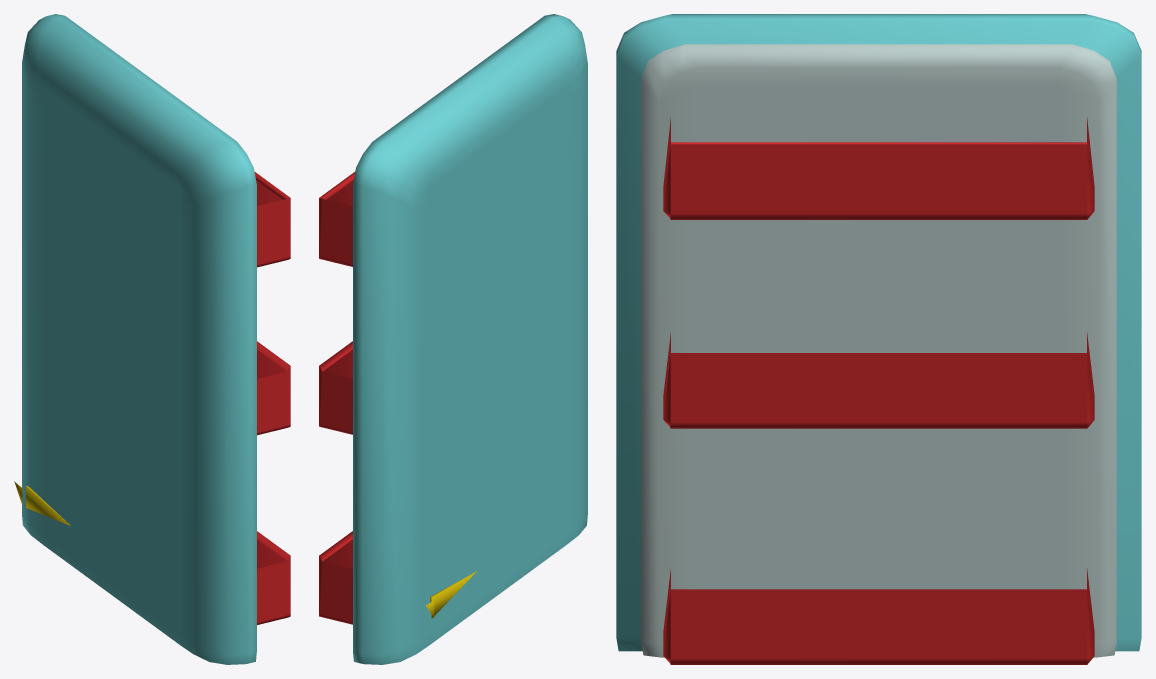
Rendered from MOD_APP_Fridge_door_01.fbx.
The picture shows the model from 3 angles, left to right: view 1: azimuth 30°, elevation 25°; view 2: azimuth 150°, elevation 25°; view 3: azimuth 270°, elevation 25°; orthographic projection. The views are drawn at different scales.
Parts seen in each view (by area): view 1: HSH_MOD_Fridge_door_01; view 2: HSH_MOD_Fridge_door_01; view 3: HSH_MOD_Fridge_door_01.
Boxes of the visible parts, x1=… form: HSH_MOD_Fridge_door_01: x1=14, y1=14, x2=290, y2=664; HSH_MOD_Fridge_door_01: x1=319, y1=14, x2=587, y2=664; HSH_MOD_Fridge_door_01: x1=616, y1=14, x2=1141, y2=664.
Size of the model in its own units: 26.26 by 118 by 88.97.
